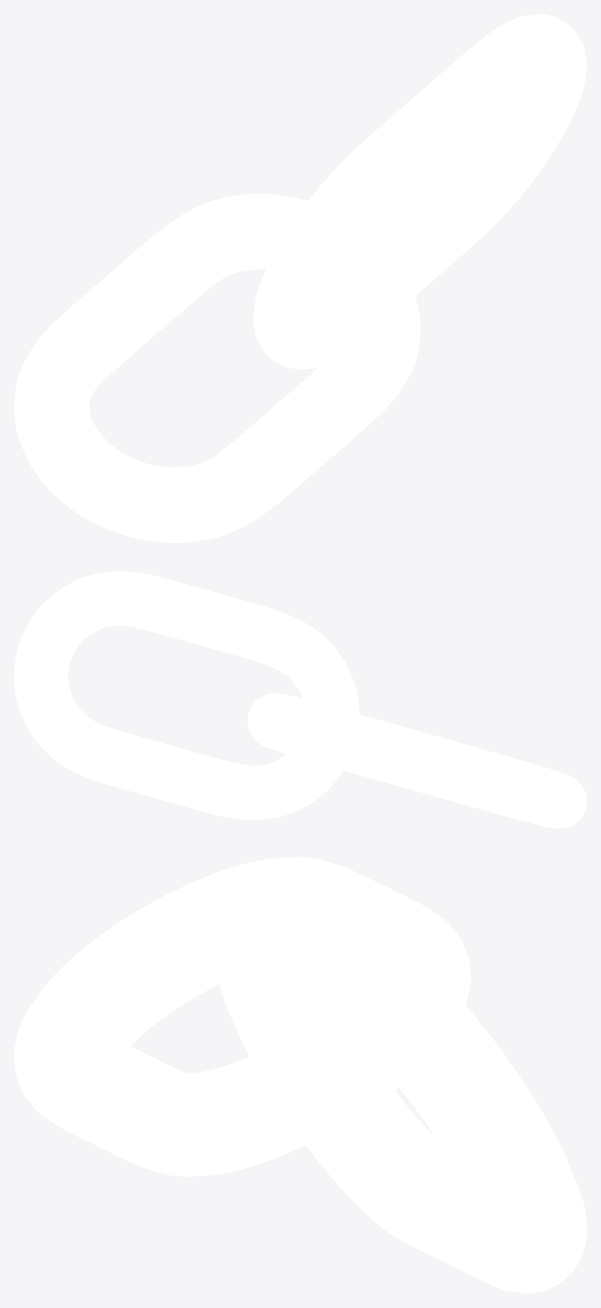
File: chain.glb
3 views of the same model, one above another, from view 1: azimuth 30°, elevation 25°; view 2: azimuth 150°, elevation 25°; view 3: azimuth 270°, elevation 25° (orthographic). The views are drawn at different scales.
Parts seen in each view (by area): view 1: Chain; view 2: Chain; view 3: Chain.
Boxes of the visible parts, box(x1,y1,x2,y2) form: Chain: box(14, 14, 586, 542); Chain: box(14, 571, 586, 828); Chain: box(14, 857, 586, 1293).
Size of the model in its own units: 6.87 by 3.14 by 3.8.
1 material, 1 textured.
